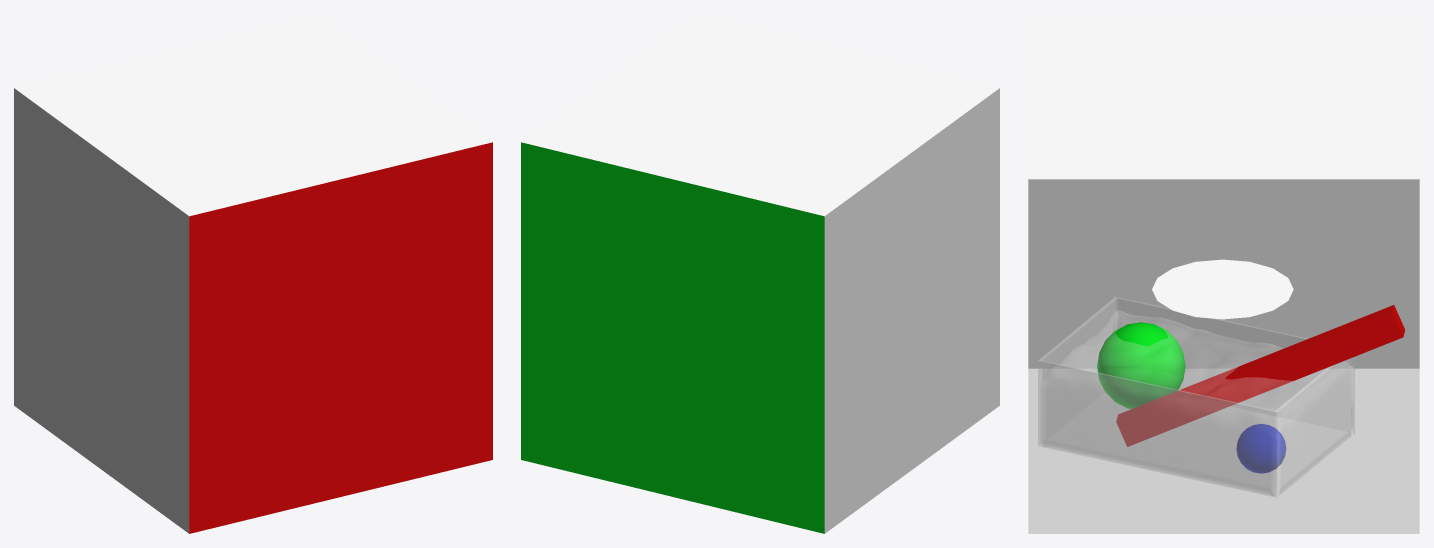
File: aquarium.glb
3 renders of one model, left to right at view 1: azimuth 30°, elevation 25°; view 2: azimuth 150°, elevation 25°; view 3: azimuth 270°, elevation 25°, orthographic. The views are drawn at different scales.
Parts seen in each view (by area): view 1: left, back, ceiling; view 2: right, back, ceiling; view 3: ceiling, back, floor, fishTank, water, rod, Circle, sphere.001, sphere.
Part boxes in pixels (x1,y1,x2,y2): left: (189, 142, 492, 533); back: (14, 88, 189, 533); ceiling: (14, 14, 492, 216); right: (521, 142, 824, 533); back: (824, 88, 999, 533); ceiling: (521, 14, 999, 216); ceiling: (1028, 14, 1419, 179); back: (1028, 179, 1419, 368); floor: (1028, 368, 1419, 533); fishTank: (1038, 297, 1354, 497); water: (1040, 310, 1352, 496); rod: (1116, 305, 1404, 446); Circle: (1152, 259, 1293, 319); sphere.001: (1097, 322, 1185, 408); sphere: (1236, 424, 1285, 473).
Size of the model in its own units: 2 by 2 by 2.
